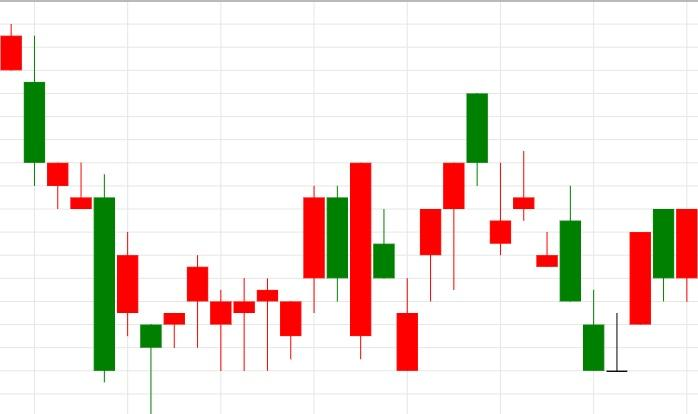morning_star_rise: (513, 151, 651, 372)
